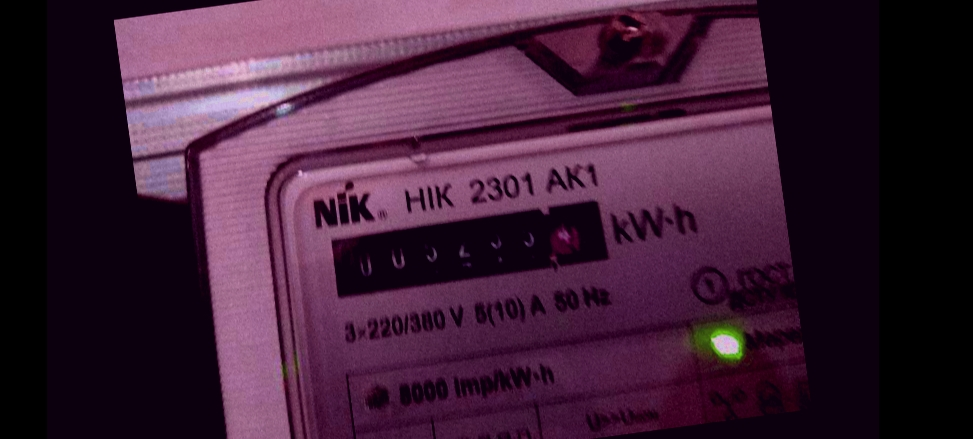0: (386, 238, 410, 273), (354, 246, 376, 279)
2: (451, 226, 476, 262)
3: (482, 219, 510, 255)
4: (550, 210, 577, 249)
5: (516, 214, 542, 252), (419, 231, 442, 266)
screen: (312, 185, 623, 311)
